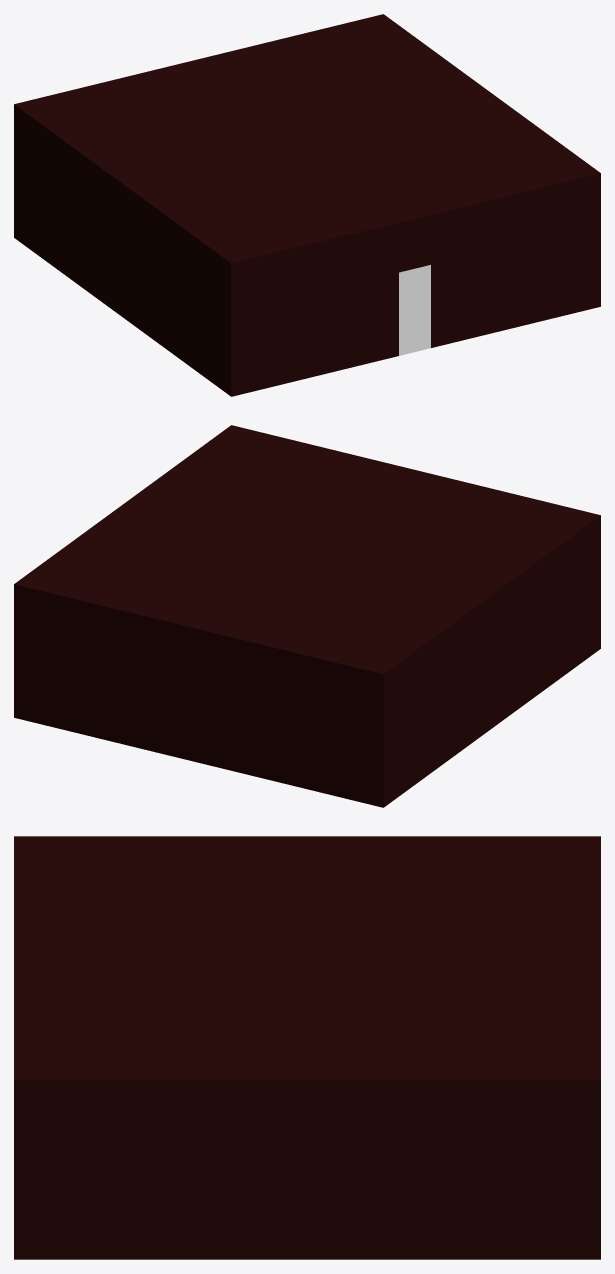
The model's file is MoneyCave.obj.
3 views of the same model, one above another, from view 1: azimuth 30°, elevation 25°; view 2: azimuth 150°, elevation 25°; view 3: azimuth 270°, elevation 25° (orthographic). The views are drawn at different scales.
Parts seen in each view (by area): view 1: Mesh2 A8CaveSword1 A8_Underground1 Model, Mesh1 A8CaveExitDoor1 A8_Underground1 Model; view 2: Mesh2 A8CaveSword1 A8_Underground1 Model; view 3: Mesh2 A8CaveSword1 A8_Underground1 Model.
Boxes of the visible parts, x1,y1,x2,y2 form: Mesh2 A8CaveSword1 A8_Underground1 Model: (14, 14, 600, 396); Mesh1 A8CaveExitDoor1 A8_Underground1 Model: (399, 265, 430, 355); Mesh2 A8CaveSword1 A8_Underground1 Model: (14, 425, 600, 807); Mesh2 A8CaveSword1 A8_Underground1 Model: (14, 836, 600, 1259).
Size of the model in its own units: 11.59 by 4 by 11.81.
